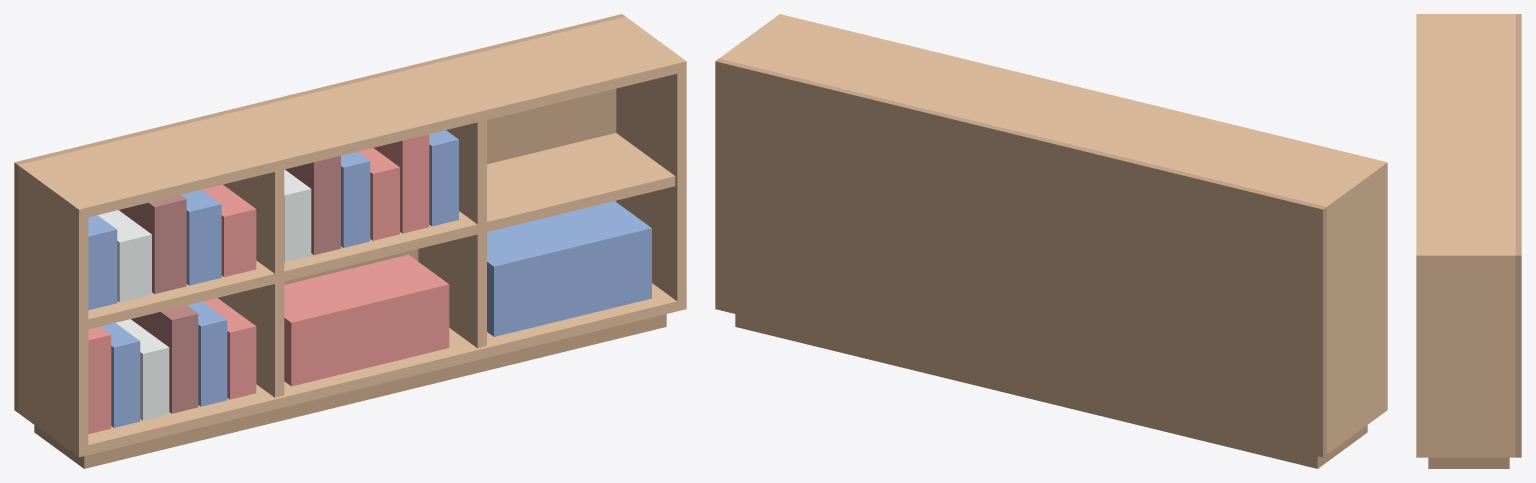
The model's file is bookcaseLowWide.glb.
3 renders of one model, left to right at view 1: azimuth 30°, elevation 25°; view 2: azimuth 150°, elevation 25°; view 3: azimuth 270°, elevation 25°, orthographic. The views are drawn at different scales.
Visible parts, largest first — view 1: bookcaseLowWide; view 2: bookcaseLowWide; view 3: bookcaseLowWide.
Boxes of the visible parts, bbox=[...] form: bookcaseLowWide: bbox=[14, 14, 686, 468]; bookcaseLowWide: bbox=[715, 14, 1387, 468]; bookcaseLowWide: bbox=[1416, 14, 1521, 468].
Bounding box in the file's own units: 0.95 × 0.4 × 0.175.
